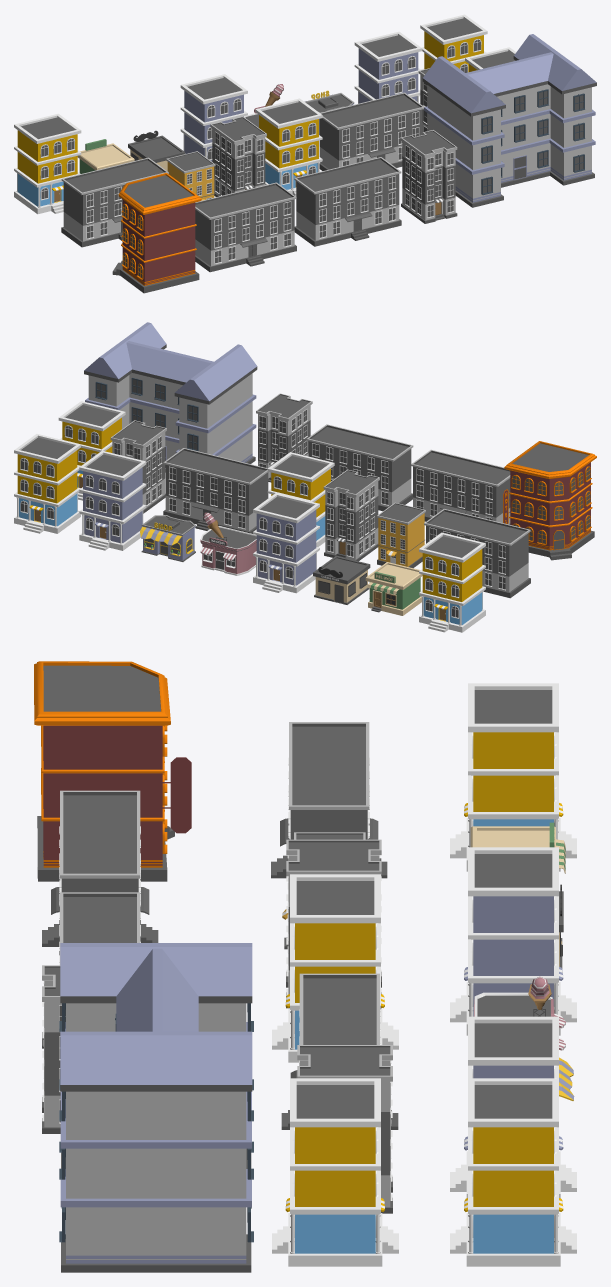
File: Buildings Set.fbx
3 views of the same model, one above another, from view 1: azimuth 30°, elevation 25°; view 2: azimuth 150°, elevation 25°; view 3: azimuth 270°, elevation 25° (orthographic). The views are drawn at different scales.
Parts seen in each view (by area): view 1: Building_69_Color_0, Building_57_Color_0, Building_11_Color_0, Building_11.001_Color_0, Building_11.003_Color_0, Building_17_Color_0, Building_11.002_Color_0, Building_17.001_Color_0, Building_14_Color_0, Building_16.001_Color_0, Building_14.001_Color_0, Building_16_Color_0 (+7 smaller); view 2: Building_69_Color_0, Building_57_Color_0, Building_11.003_Color_0, Building_17_Color_0, Building_17.003_Color_0, Building_16_Color_0, Building_16.001_Color_0, Building_11.001_Color_0, Building_11_Color_0, Building_11.002_Color_0, Building_14.001_Color_0, Building_14_Color_0 (+8 smaller); view 3: Building_69_Color_0, Building_57_Color_0, Building_17.002_Color_0, Building_17.003_Color_0, Building_16_Color_0, Building_17_Color_0, Building_17.001_Color_0, Building_11.002_Color_0, Building_11.001_Color_0, Building_16.001_Color_0, Building_11.003_Color_0, Building_14.002_Color_0 (+5 smaller).
Boxes of the visible parts, x1,y1,x2,y2 form: Building_69_Color_0: (422, 34, 596, 207); Building_57_Color_0: (112, 172, 201, 293); Building_11_Color_0: (294, 157, 401, 246); Building_11.001_Color_0: (195, 182, 296, 272); Building_11.003_Color_0: (319, 92, 423, 170); Building_17_Color_0: (14, 113, 81, 214); Building_11.002_Color_0: (61, 157, 168, 247); Building_17.001_Color_0: (255, 98, 322, 196); Building_14_Color_0: (400, 130, 457, 223); Building_16.001_Color_0: (354, 31, 422, 103); Building_14.001_Color_0: (210, 116, 266, 196); Building_16_Color_0: (180, 74, 247, 161); Building_69_Color_0: (84, 322, 257, 472); Building_57_Color_0: (503, 441, 596, 560); Building_11.003_Color_0: (163, 448, 268, 533); Building_17_Color_0: (419, 532, 485, 632); Building_17.003_Color_0: (14, 434, 80, 533); Building_16_Color_0: (253, 493, 319, 593); Building_16.001_Color_0: (79, 450, 146, 550); Building_11.001_Color_0: (411, 449, 510, 524); Building_11_Color_0: (306, 424, 413, 511); Building_11.002_Color_0: (424, 509, 530, 598); Building_14.001_Color_0: (323, 469, 379, 561); Building_14_Color_0: (256, 393, 312, 482); Building_69_Color_0: (59, 943, 253, 1272); Building_57_Color_0: (34, 661, 191, 881); Building_17.002_Color_0: (272, 1078, 398, 1266); Building_17.003_Color_0: (450, 1078, 576, 1266); Building_16_Color_0: (450, 847, 576, 1035); Building_17_Color_0: (450, 683, 576, 871); Building_17.001_Color_0: (272, 874, 398, 1062); Building_11.002_Color_0: (271, 722, 387, 878); Building_11.001_Color_0: (42, 790, 158, 955); Building_16.001_Color_0: (450, 1016, 576, 1198); Building_11.003_Color_0: (281, 973, 398, 1129); Building_14.002_Color_0: (297, 1045, 392, 1213).
Size of the model in its own units: 8358 by 1951 by 4261.
Materials: 1 (1 with a texture image).
